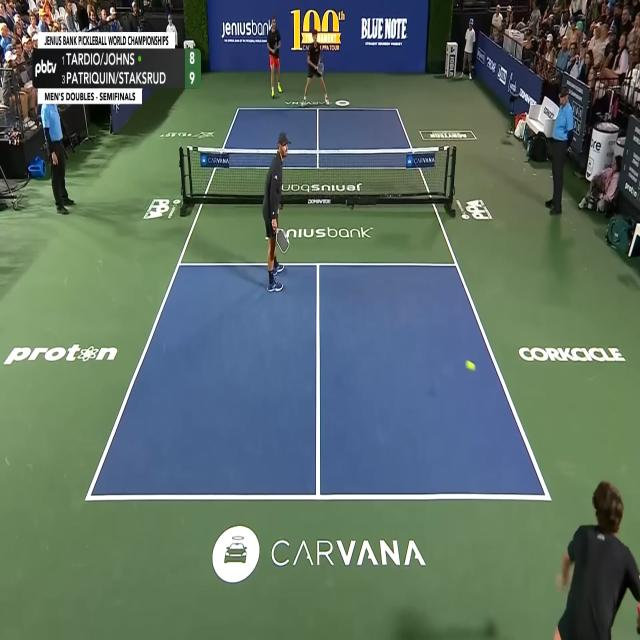ball: (465, 359, 476, 372)
